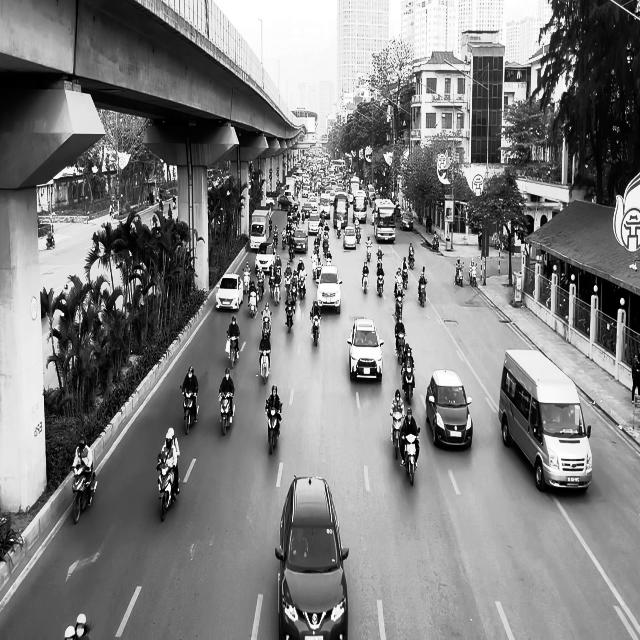bus: (498, 348, 592, 492), (250, 209, 269, 251)
car: (275, 474, 349, 639), (426, 368, 473, 449), (348, 317, 384, 382), (316, 265, 342, 314), (216, 274, 243, 311), (255, 242, 276, 274)
motorbike: (72, 464, 98, 524), (157, 453, 179, 521), (401, 427, 421, 486), (266, 398, 282, 455), (181, 386, 199, 434), (219, 390, 235, 435), (390, 412, 405, 460), (402, 365, 416, 403), (259, 341, 271, 384), (228, 332, 240, 368), (310, 313, 322, 347), (285, 300, 295, 333), (396, 332, 406, 364), (418, 280, 428, 307), (376, 272, 384, 297), (455, 264, 464, 286), (469, 265, 477, 286), (362, 271, 369, 294)
